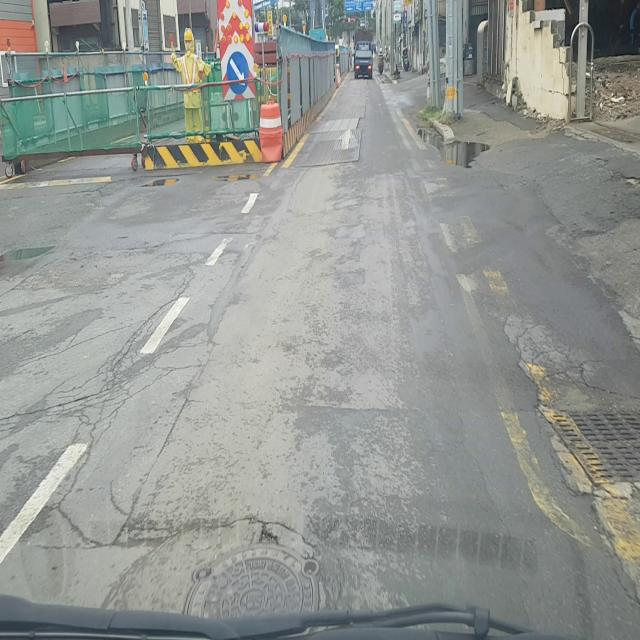Pothole: (181, 521, 322, 610)
